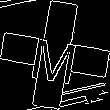M_N: (28, 26, 82, 84)
